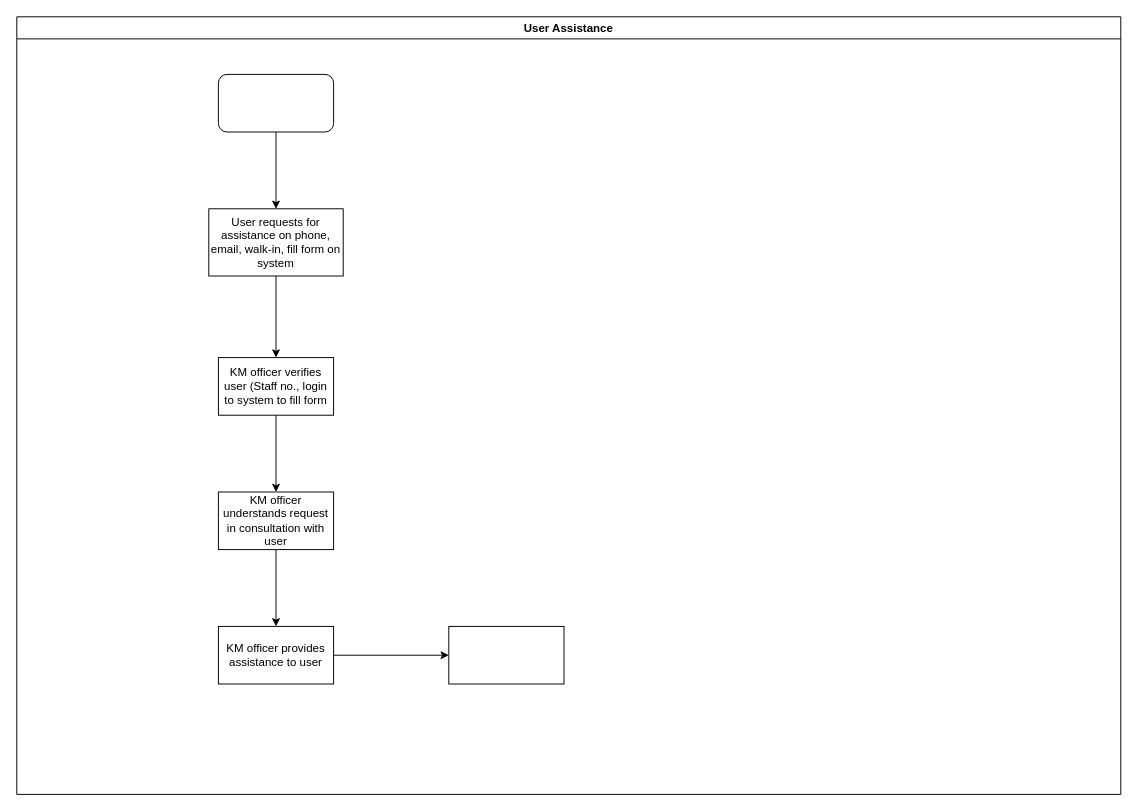
Some shapes in this 1138 by 811 pixel diagram are drawn without their labels. Each missing label, with the centre of its shape:
"KM officer develops Q&A summary" belongs at (x=506, y=654).
"Start" belongs at (x=275, y=102).
